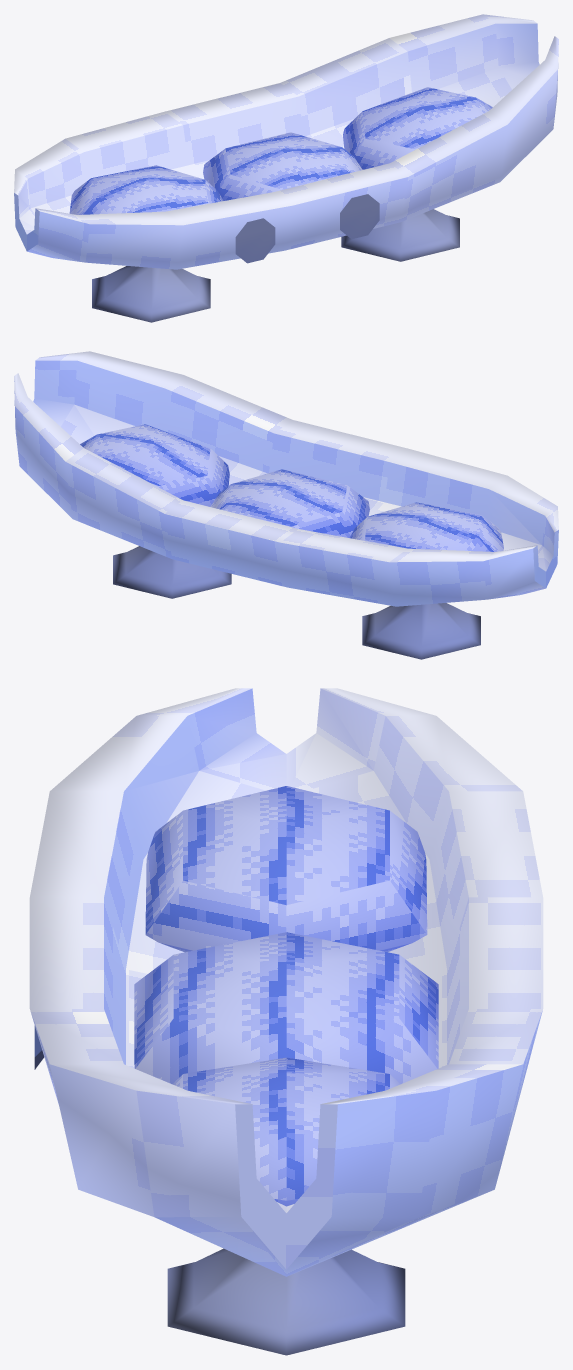
Rendered from seat_lounge.glb.
The picture shows the model from 3 angles, top to bottom: view 1: azimuth 30°, elevation 25°; view 2: azimuth 150°, elevation 25°; view 3: azimuth 270°, elevation 25°; orthographic projection. The views are drawn at different scales.
Visible parts, largest first — view 1: kit_pod_shell, kit_pod_cushion, kit_pod_feet, kit_portholes; view 2: kit_pod_shell, kit_pod_cushion, kit_pod_feet; view 3: kit_pod_shell, kit_pod_cushion, kit_pod_feet.
Boxes of the visible parts, left/top/right/bottom form: kit_pod_shell: left=14, top=14, right=558, bottom=269; kit_pod_cushion: left=69, top=87, right=492, bottom=214; kit_pod_feet: left=92, top=209, right=459, bottom=322; kit_portholes: left=235, top=194, right=379, bottom=263; kit_pod_shell: left=14, top=351, right=558, bottom=606; kit_pod_cushion: left=80, top=424, right=503, bottom=551; kit_pod_feet: left=113, top=546, right=480, bottom=659; kit_pod_shell: left=29, top=688, right=543, bottom=1276; kit_pod_cushion: left=134, top=786, right=438, bottom=1206; kit_pod_feet: left=167, top=1248, right=405, bottom=1355.
Bounding box in the file's own units: 2.1 × 0.648 × 0.8989.
Materials: 3 (2 with a texture image).
